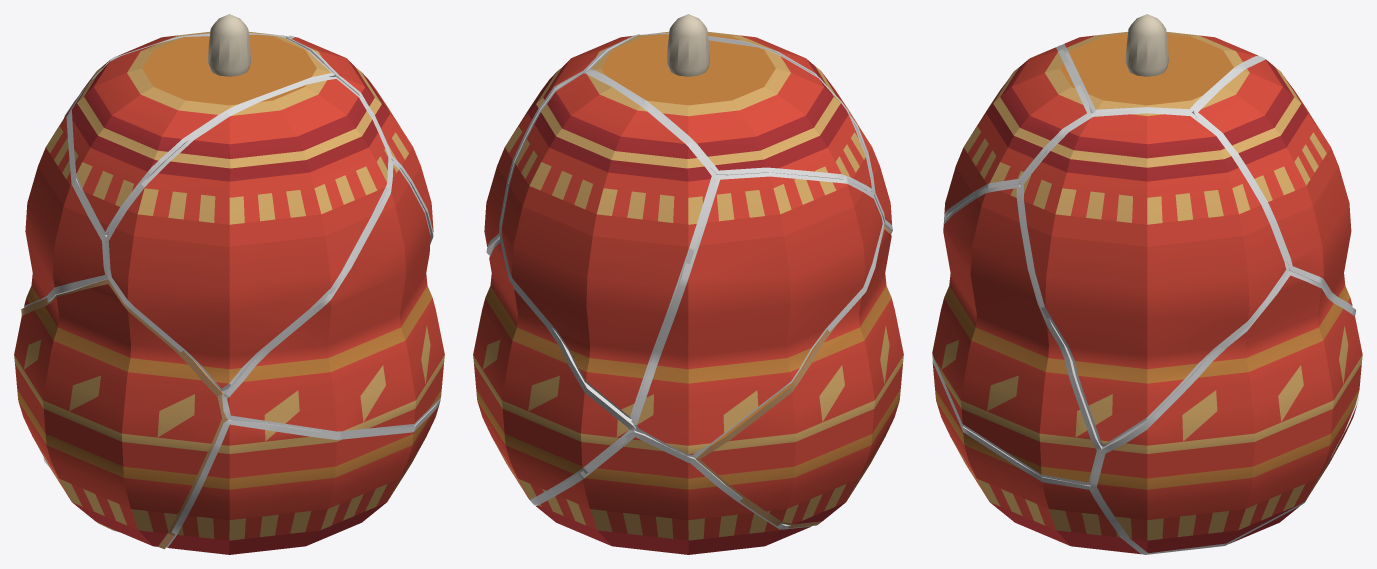
Rendered from v16_red.fbx.
The picture shows the model from 3 angles, left to right: view 1: azimuth 30°, elevation 25°; view 2: azimuth 150°, elevation 25°; view 3: azimuth 270°, elevation 25°; orthographic projection.
Visible parts, largest first — view 1: shard2, shard3, shard1, shard6, shard9, shard4, gold2, shard10, gold1, gold9, gold3, gold6 (+2 smaller); view 2: shard5, shard4, shard3, shard6, shard8, shard7, gold4, gold5, shard10, gold3, gold8, gold6 (+4 smaller); view 3: shard10, shard8, shard1, shard5, shard6, shard2, shard9, gold10, gold8, gold1, gold5, gold2 (+2 smaller).
Part boxes in pixels (<box>): shard2: <box>108,79,388,388</box>; shard3: <box>14,284,221,546</box>; shard1: <box>227,164,444,431</box>; shard6: <box>72,14,330,231</box>; shard9: <box>168,406,438,554</box>; shard4: <box>24,98,104,305</box>; gold2: <box>105,76,391,391</box>; shard10: <box>292,37,433,231</box>; gold1: <box>222,160,440,437</box>; gold9: <box>166,400,440,547</box>; gold3: <box>21,279,228,549</box>; gold6: <box>68,34,334,235</box>; shard5: <box>502,73,711,416</box>; shard4: <box>637,176,882,454</box>; shard3: <box>700,229,903,524</box>; shard6: <box>591,14,871,188</box>; shard8: <box>473,242,628,499</box>; shard7: <box>536,437,810,554</box>; gold4: <box>631,172,884,458</box>; gold5: <box>500,70,716,419</box>; shard10: <box>484,36,631,246</box>; gold3: <box>695,226,891,528</box>; gold8: <box>489,239,635,504</box>; gold6: <box>588,34,872,191</box>; shard10: <box>1023,113,1286,444</box>; shard8: <box>1097,275,1362,552</box>; shard1: <box>932,188,1096,482</box>; shard5: <box>1198,59,1352,305</box>; shard6: <box>1064,14,1257,109</box>; shard2: <box>944,47,1086,213</box>; shard9: <box>932,362,1140,553</box>; gold10: <box>1020,109,1289,446</box>; gold8: <box>1090,271,1355,554</box>; gold1: <box>932,184,1102,485</box>; gold5: <box>1193,56,1352,306</box>; gold2: <box>944,45,1091,219</box>.
Bounding box in the file's own units: 9.34 × 11.49 × 9.33.
